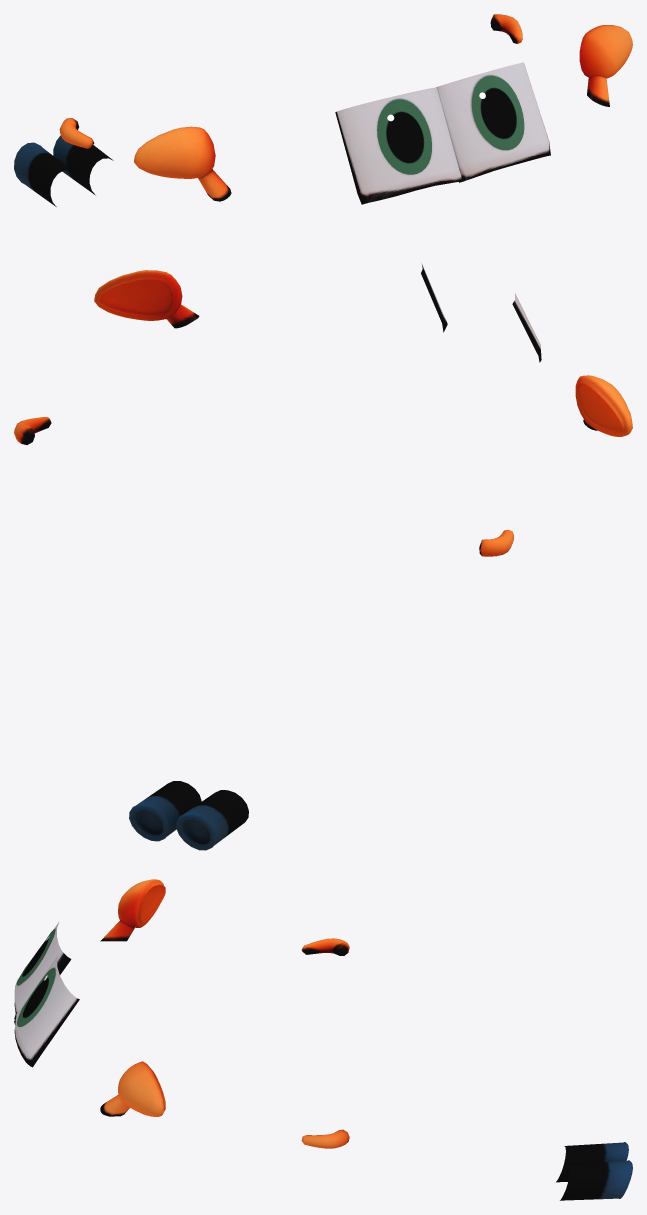
Rendered from car3.glb.
3 renders of one model, top to bottom at view 1: azimuth 30°, elevation 25°; view 2: azimuth 150°, elevation 25°; view 3: azimuth 270°, elevation 25°, orthographic. The views are drawn at different scales.
Parts seen in each view (by area): view 1: car7; view 2: car7; view 3: car7.
Boxes of the visible parts, box(x1,y1,x2,y2) form: car7: box(14, 14, 632, 206); car7: box(14, 263, 632, 850); car7: box(14, 879, 632, 1200).
Size of the model in its own units: 2.4 by 1.4 by 2.85.
Materials: 1 (1 with a texture image).
